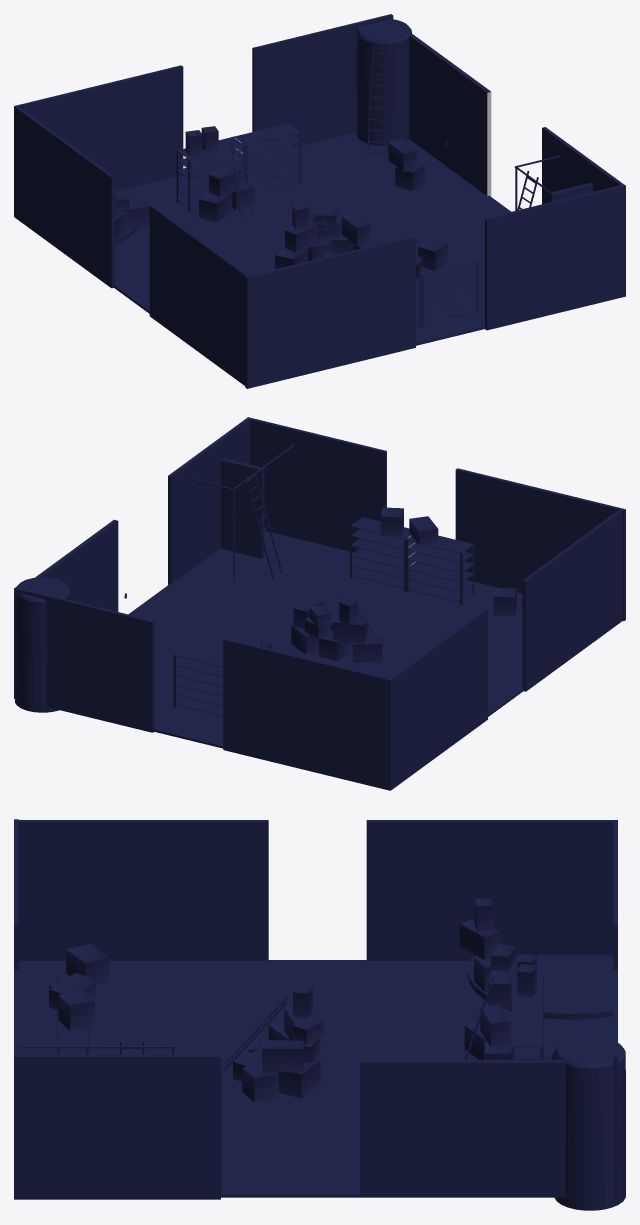
Rendered from Locked_Empty_Store_V3.fbx.
3 renders of one model, top to bottom at view 1: azimuth 30°, elevation 25°; view 2: azimuth 150°, elevation 25°; view 3: azimuth 270°, elevation 25°, orthographic. The views are drawn at different scales.
Visible parts, largest first — view 1: 430x210x270_1.002, 430x210x270_1.004, 430x210x270_1.009, 430x210x270_1.010, 430x210x270_1.006, 430x210x270_1.007, 430x210x270_1.008, 430x210x270_1.005, 430x210x270_1.003, 430x210x270_1.012, 430x210x270_1.011; view 2: 430x210x270_1.002, 430x210x270_1.004, 430x210x270_1.006, 430x210x270_1.010, 430x210x270_1.005, 430x210x270_1.009, 430x210x270_1.008, 430x210x270_1.007, 430x210x270_1.011, 430x210x270_1.003, 430x210x270_1.001, 430x210x270_1.012; view 3: 430x210x270_1.002, 430x210x270_1.008, 430x210x270_1.004, 430x210x270_1.007, 430x210x270_1.011, 430x210x270_1.003, 430x210x270_1.012, 430x210x270_1.010, 430x210x270_1.005, 430x210x270_1.006, 430x210x270_1.009.
Part boxes in pixels (<box>): 430x210x270_1.002: <box>113,132,510,345</box>; 430x210x270_1.004: <box>115,29,561,327</box>; 430x210x270_1.009: <box>245,235,415,388</box>; 430x210x270_1.010: <box>485,184,625,330</box>; 430x210x270_1.006: <box>14,65,183,190</box>; 430x210x270_1.007: <box>14,106,114,288</box>; 430x210x270_1.008: <box>149,204,249,385</box>; 430x210x270_1.005: <box>252,14,393,147</box>; 430x210x270_1.003: <box>408,32,491,196</box>; 430x210x270_1.012: <box>356,19,411,145</box>; 430x210x270_1.011: <box>542,127,624,204</box>; 430x210x270_1.002: <box>128,531,524,748</box>; 430x210x270_1.004: <box>15,444,522,716</box>; 430x210x270_1.006: <box>223,638,392,790</box>; 430x210x270_1.010: <box>246,417,386,552</box>; 430x210x270_1.005: <box>14,587,154,732</box>; 430x210x270_1.009: <box>455,468,625,620</box>; 430x210x270_1.008: <box>522,509,622,691</box>; 430x210x270_1.007: <box>390,608,487,790</box>; 430x210x270_1.011: <box>168,418,250,584</box>; 430x210x270_1.003: <box>14,519,118,697</box>; 430x210x270_1.001: <box>220,458,264,558</box>; 430x210x270_1.012: <box>16,577,70,712</box>; 430x210x270_1.002: <box>19,960,612,1197</box>; 430x210x270_1.008: <box>18,820,268,960</box>; 430x210x270_1.004: <box>19,898,625,1210</box>; 430x210x270_1.007: <box>366,820,612,960</box>; 430x210x270_1.011: <box>14,1055,220,1199</box>; 430x210x270_1.003: <box>360,1060,612,1197</box>; 430x210x270_1.012: <box>554,1036,625,1210</box>; 430x210x270_1.010: <box>14,969,18,1199</box>; 430x210x270_1.005: <box>613,969,617,1199</box>; 430x210x270_1.006: <box>611,820,617,969</box>; 430x210x270_1.009: <box>14,819,18,969</box>.
Bounding box in the file's own units: 1946 × 562 × 2081.
